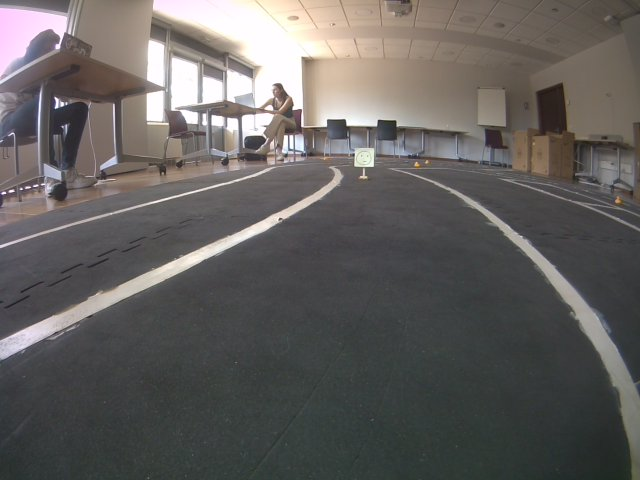Smiley: (352, 145, 377, 170)
